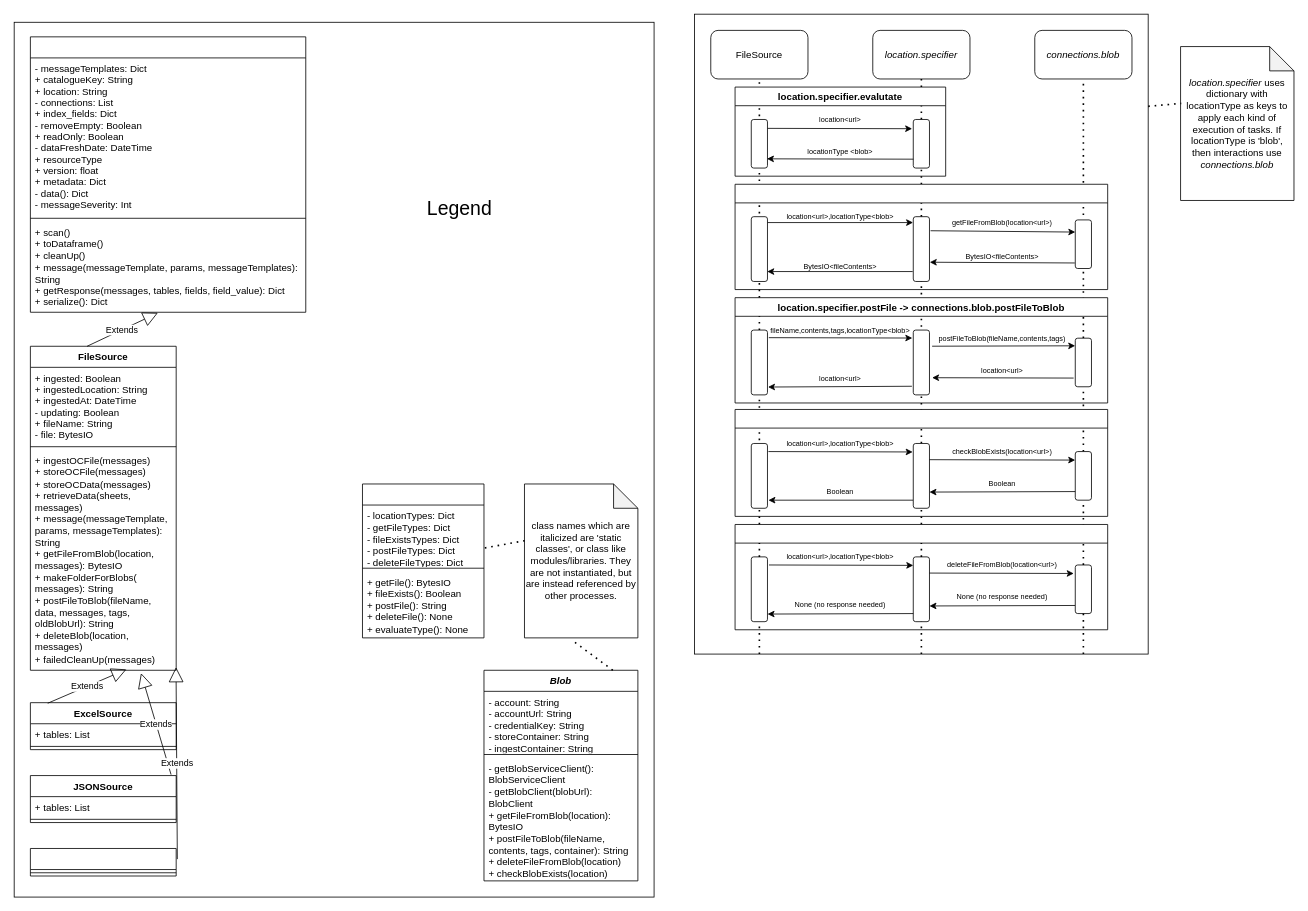
The diagram is 1308 pixels wide and 911 high, and some of its shapes have lost their labels. The shapes that lost their labels are listed below. From the top down, each one's box as (x1, y1, x2, y2) in pixels, then its label:
(30, 36, 306, 312): DataSource
(734, 183, 1108, 290): location.specifier.getFile -> connections.blob.getFileFromBlob
(734, 409, 1108, 516): location.specifier.fileExists -> connections.blob.checkBlobExists
(362, 483, 484, 638): LocationSpecifier
(734, 524, 1108, 630): location.specifier.deleteFile -> connections.blob.deleteFileFromBlob
(30, 848, 176, 876): CSVSource
